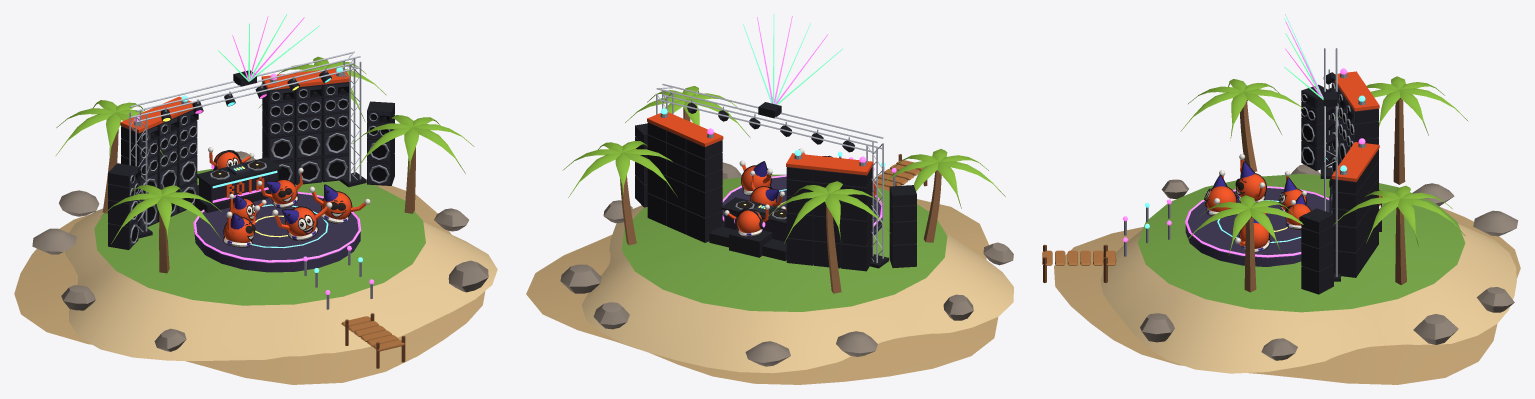
The model's file is allday.glb.
3 views of the same model, side by side, from view 1: azimuth 30°, elevation 25°; view 2: azimuth 150°, elevation 25°; view 3: azimuth 270°, elevation 25° (orthographic).
Parts seen in each view (by area): view 1: allday_isla; view 2: allday_isla; view 3: allday_isla.
Boxes of the visible parts, <box> form: allday_isla: <box>14,14,497,384</box>; allday_isla: <box>526,14,1013,384</box>; allday_isla: <box>1042,14,1520,384</box>.
Size of the model in its own units: 16.26 by 10 by 16.36.
